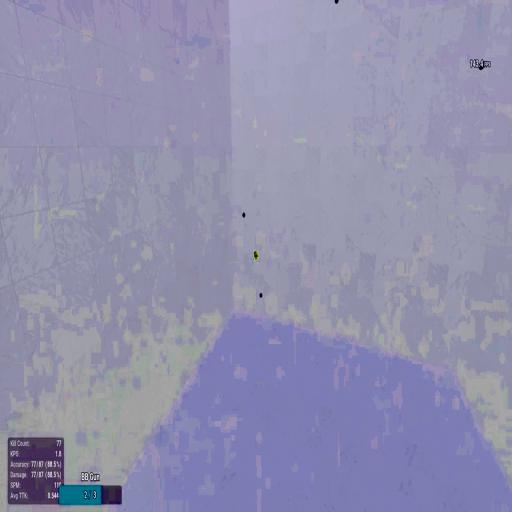Crosshair: (254, 251, 258, 261)
Target: (478, 59, 484, 70), (242, 211, 246, 219), (253, 250, 257, 256), (334, 0, 338, 4), (260, 292, 262, 298)
